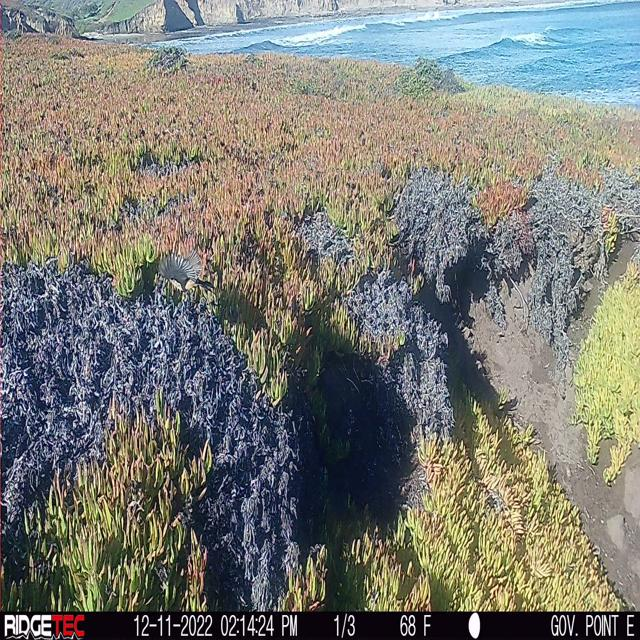bird: (141, 242, 228, 318)
